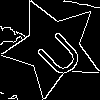U: (28, 23, 86, 81)
